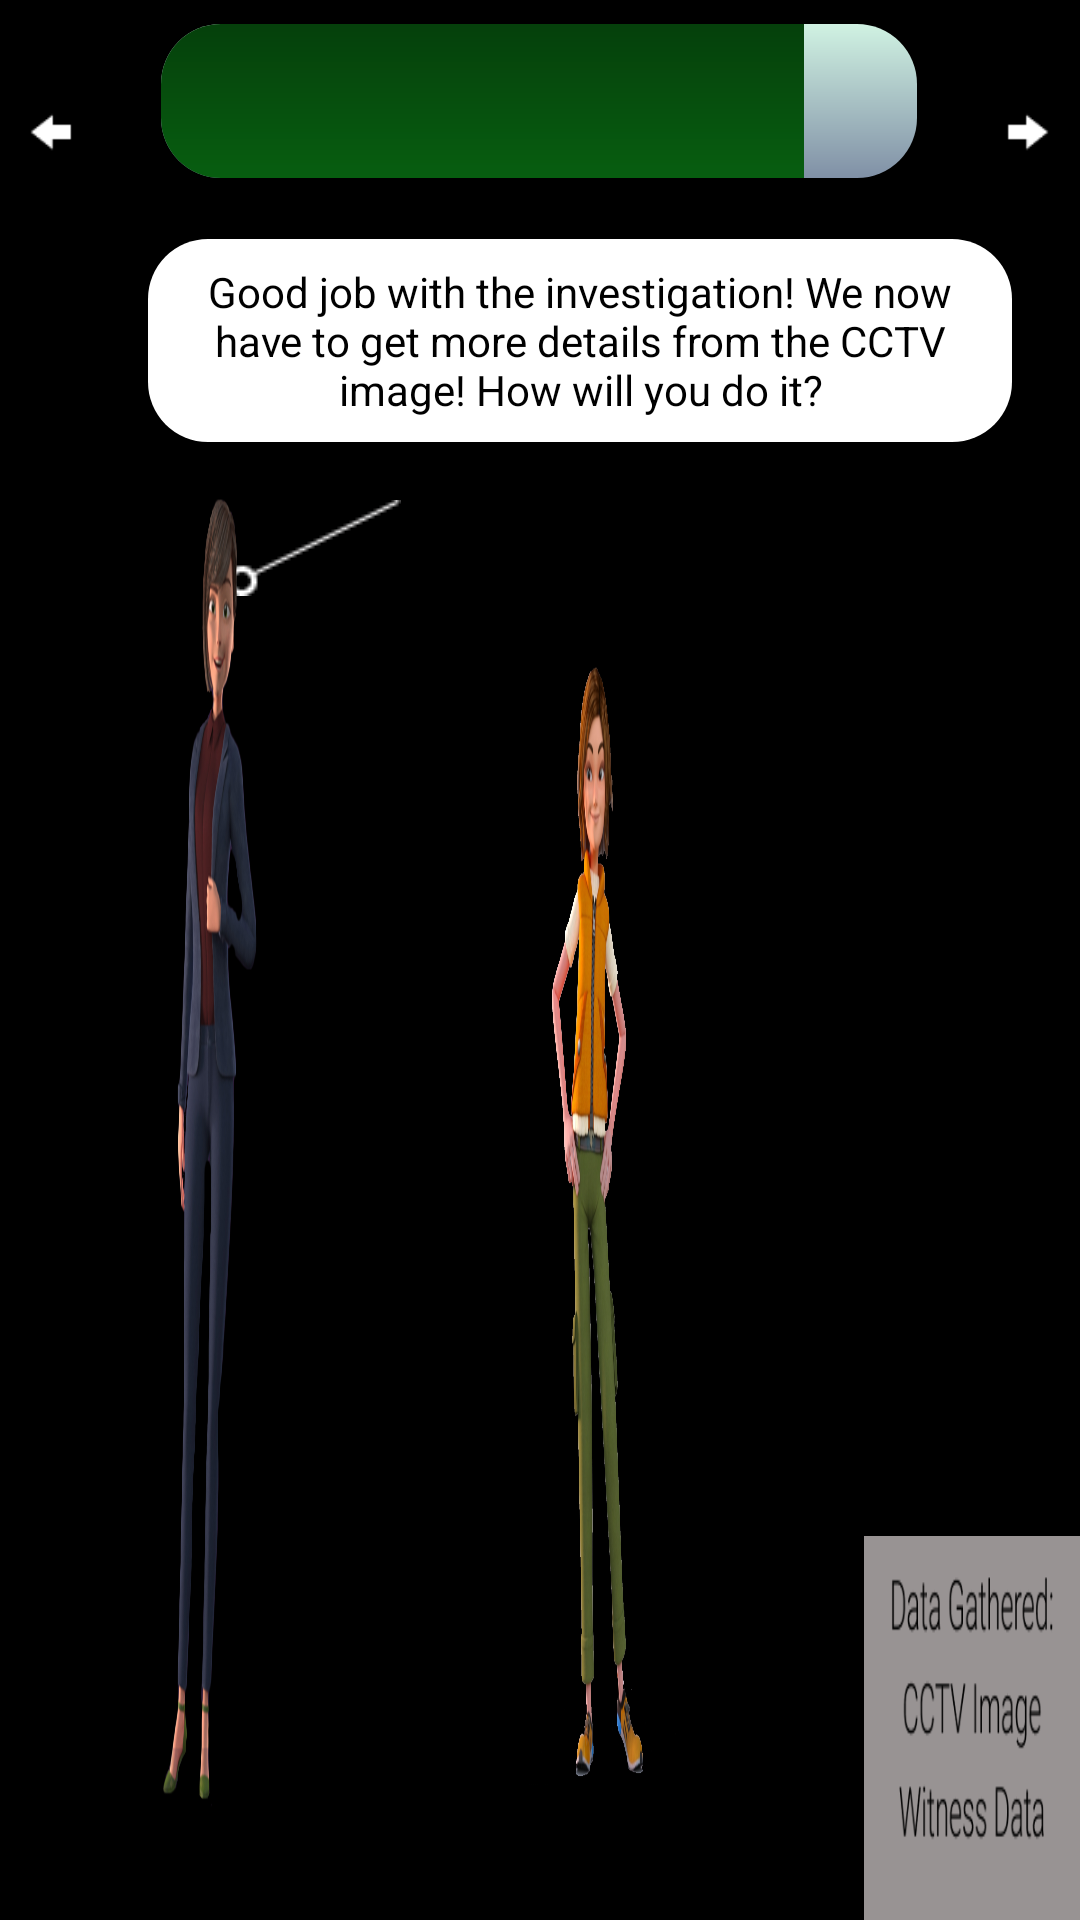

Icons on this 1080px×1920px Android screen, each with the point to tap as [x,y]:
pointer: [314,548]
